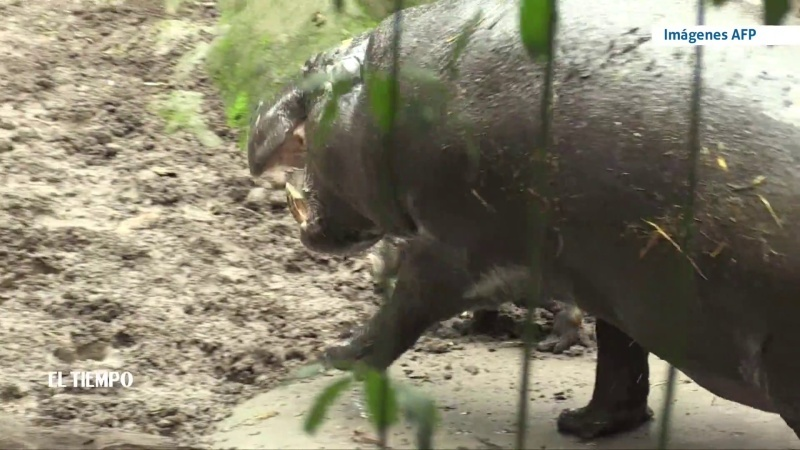hipopotamo: (244, 2, 800, 433)
